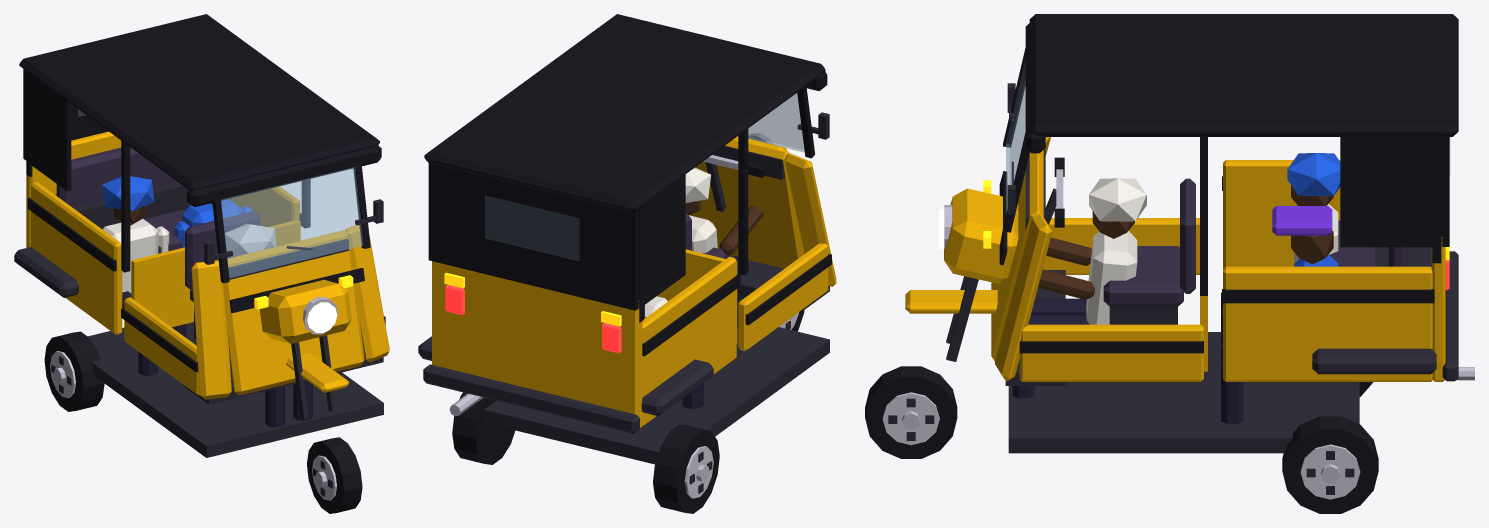
The model's file is keke.glb.
The picture shows the model from 3 angles, left to right: view 1: azimuth 30°, elevation 25°; view 2: azimuth 150°, elevation 25°; view 3: azimuth 270°, elevation 25°; orthographic projection. The views are drawn at different scales.
Parts seen in each view (by area): view 1: body, pax_0, wheel_1, wheel_0, driver, pax_1; view 2: body, wheel_1, wheel_2, driver, pax_0; view 3: body, driver, wheel_2, wheel_0, pax_1, pax_0.
Part boxes in pixels (x1,y1,x2,y2): body: (14,14,389,457); pax_0: (102,176,186,375); wheel_1: (44,331,104,411); wheel_0: (307,437,362,513); driver: (224,223,312,427); pax_1: (174,199,252,247); body: (418,14,836,464); wheel_1: (653,424,719,513); wheel_2: (452,392,515,464); driver: (685,167,763,328); pax_0: (645,296,703,408); body: (905,14,1474,453); driver: (1012,178,1146,398); wheel_2: (1282,416,1378,513); wheel_0: (865,366,957,458); pax_1: (1221,206,1338,423); pax_0: (1221,153,1340,343).
Size of the model in its own units: 1.56 by 2.11 by 3.04.
